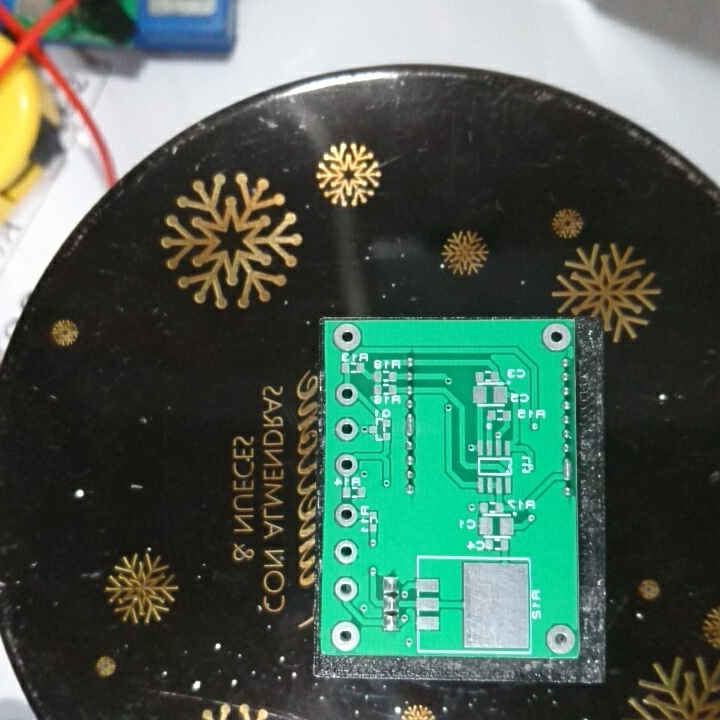F: (329, 619, 363, 654), (542, 623, 576, 655), (539, 321, 573, 352), (331, 321, 363, 353), (332, 575, 360, 605), (333, 501, 359, 531), (333, 538, 359, 567), (334, 451, 359, 478), (334, 417, 359, 443), (333, 382, 360, 406)
P: (403, 412, 419, 436), (560, 454, 573, 483)
